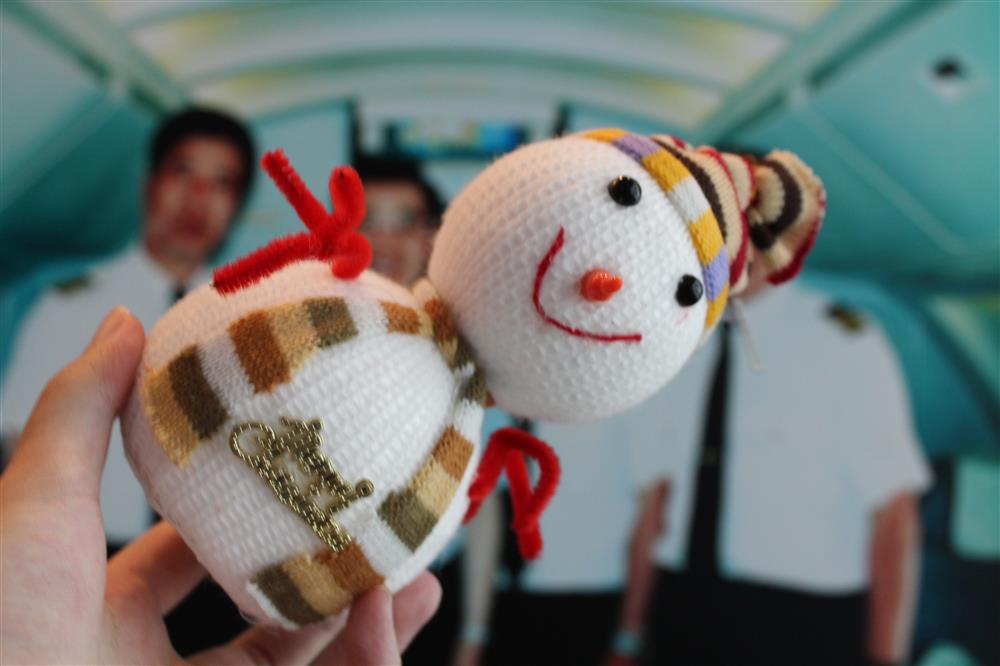toy_snowman: (117, 125, 827, 624)
